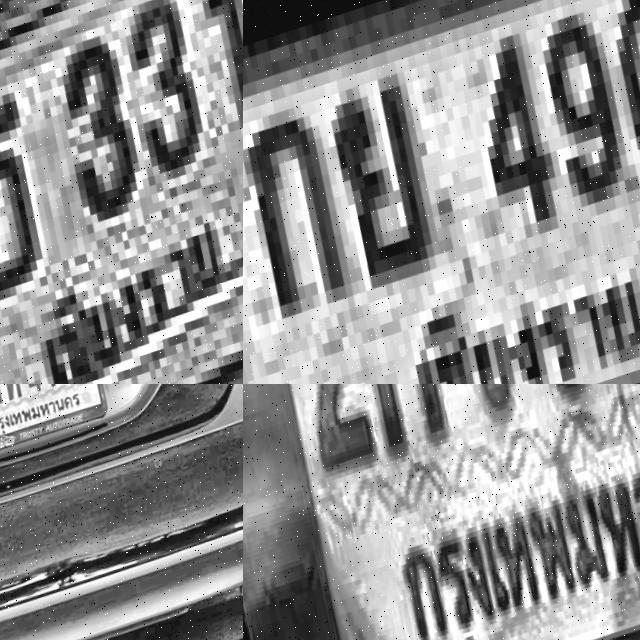license-plate: (243, 0, 640, 384), (243, 384, 640, 640), (0, 0, 243, 384), (0, 384, 119, 468)
